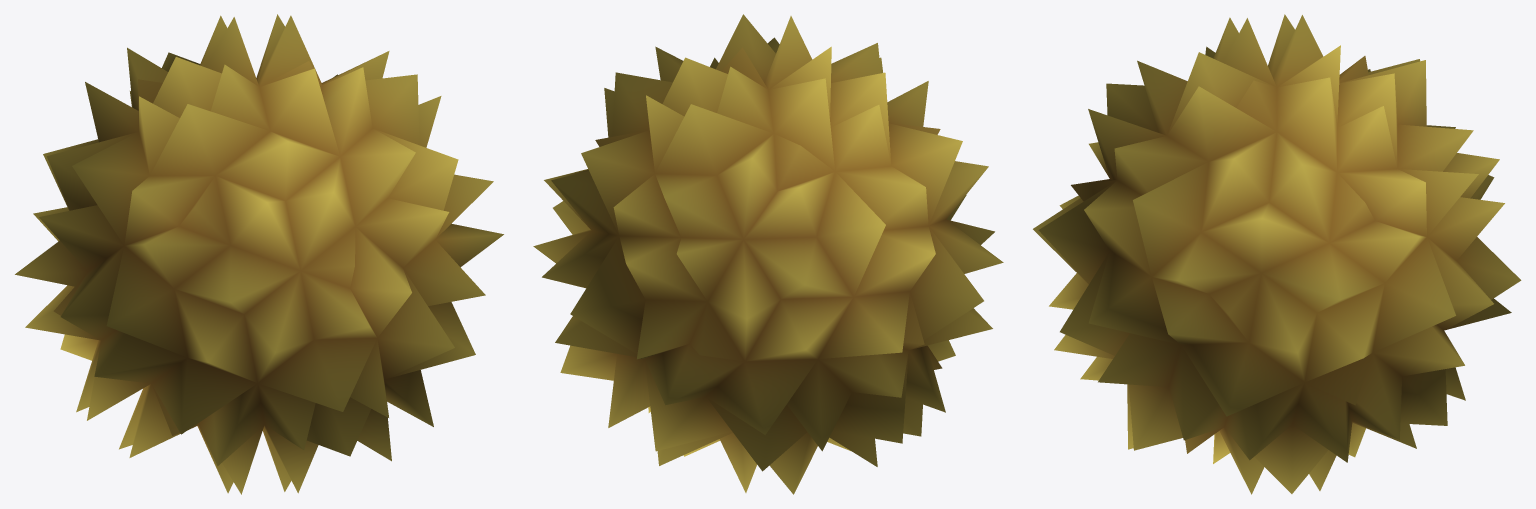
File: microscopic-pollen-spores-ragweed-pollen_v1.glb
3 renders of one model, left to right at view 1: azimuth 30°, elevation 25°; view 2: azimuth 150°, elevation 25°; view 3: azimuth 270°, elevation 25°, orthographic.
Parts seen in each view (by area): view 1: Ragweed Pollen; view 2: Ragweed Pollen; view 3: Ragweed Pollen.
Boxes of the visible parts, x1=… form: Ragweed Pollen: x1=15, y1=14, x2=503, y2=494; Ragweed Pollen: x1=533, y1=14, x2=1003, y2=494; Ragweed Pollen: x1=1033, y1=14, x2=1521, y2=494.
Size of the model in its own units: 0.1976 by 0.1922 by 0.2.
